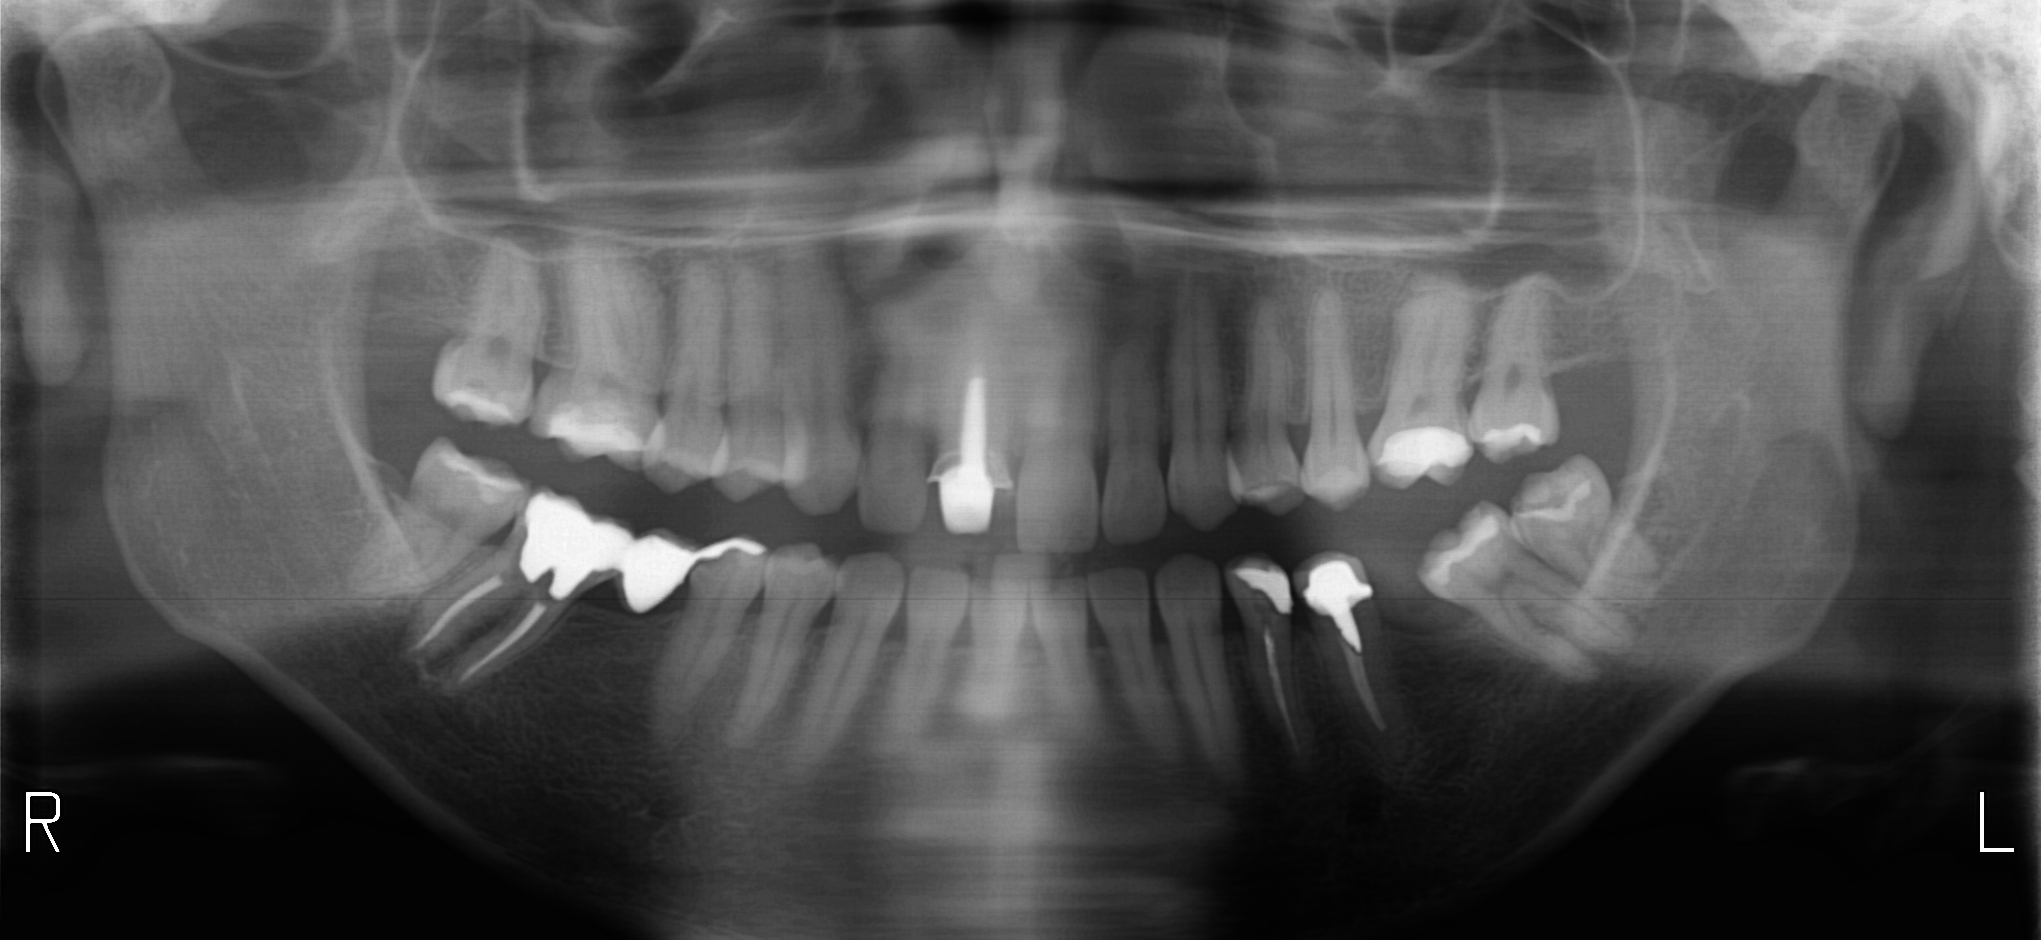cavity: (1205, 625, 1218, 637)
